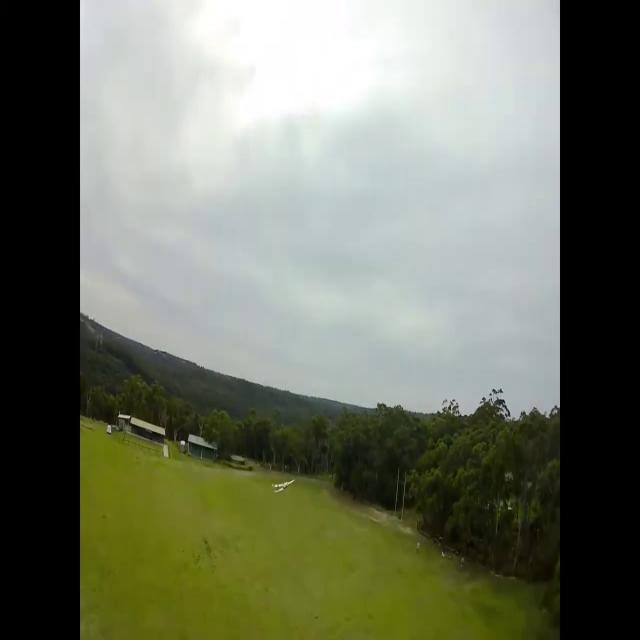iha: (272, 480, 294, 492)
